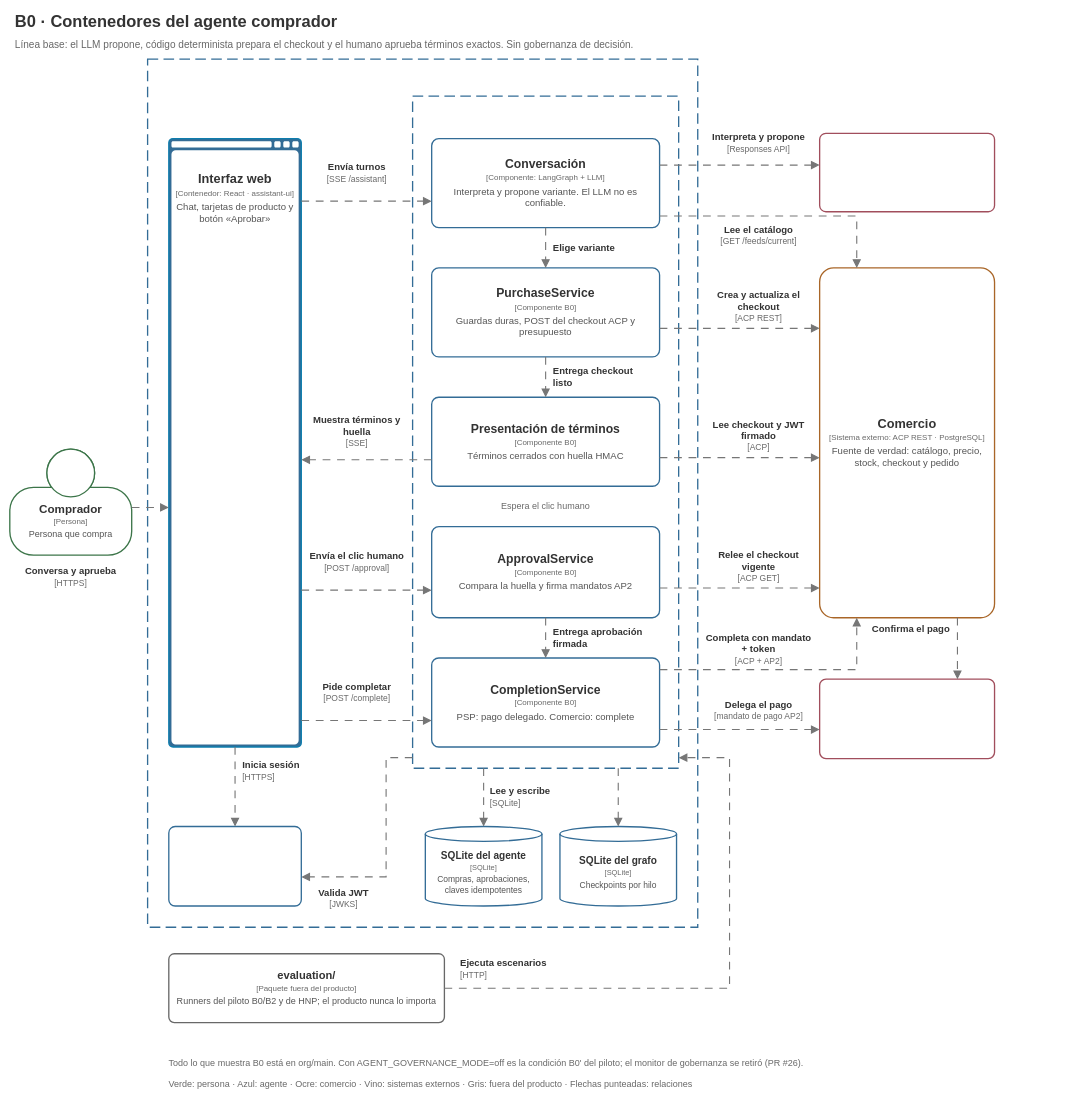
Some shapes in this 1079 by 1102 pixel diagram are drawn without their labels. The box of each missing label's shape, as (x1, y1, x2, y2) in pixels:
Agente comprador · producto (src/, ui/, auth/): (147, 58, 698, 928)
API del agente [Contenedor: FastAPI · Python]: (412, 95, 679, 769)
Auth [Contenedor: Better Auth] Emite el JWT del comprador: (168, 826, 302, 906)
OpenAI [Sistema externo: Responses API] Modelo conversacional: (819, 132, 995, 212)
PSP sandbox [Sistema externo: AP2] Proveedor de pago de prueba: (819, 678, 995, 759)
